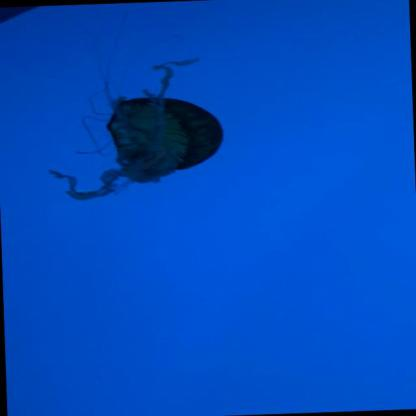jellyfish: (106, 92, 226, 184)
